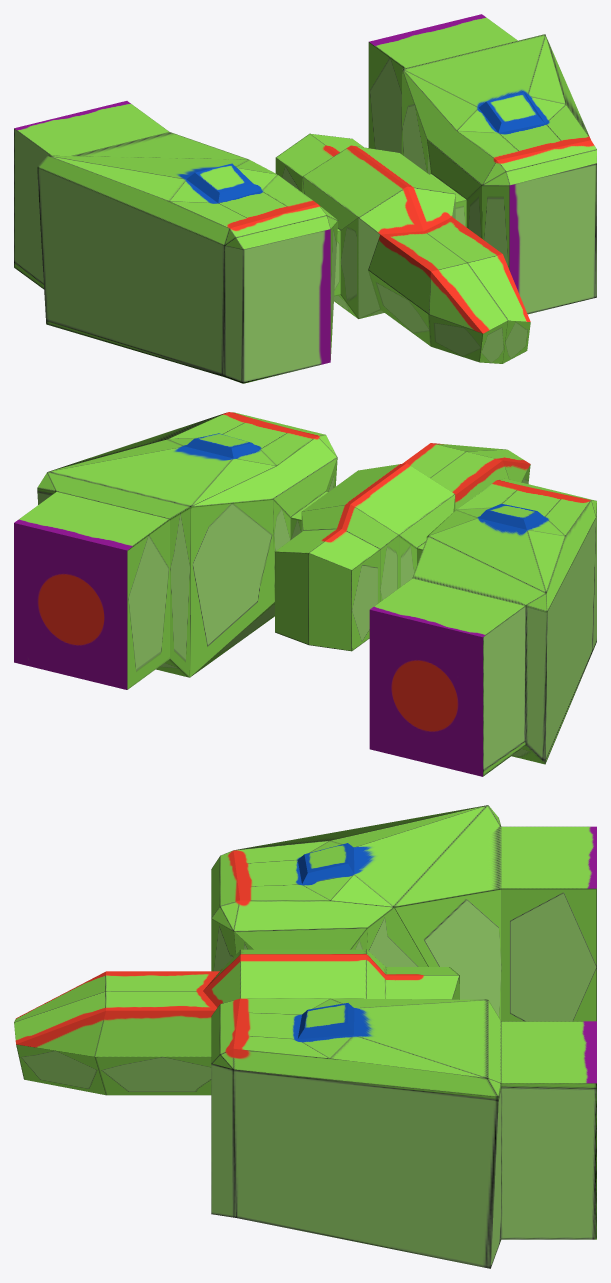
Rendered from enemyModel2_3.fbx.
The picture shows the model from 3 angles, top to bottom: view 1: azimuth 30°, elevation 25°; view 2: azimuth 150°, elevation 25°; view 3: azimuth 270°, elevation 25°; orthographic projection. The views are drawn at different scales.
Visible parts, largest first — view 1: Cube.001; view 2: Cube.001; view 3: Cube.001.
Boxes of the visible parts, box(x1,y1,x2,y2) form: Cube.001: box(14, 14, 596, 383); Cube.001: box(14, 412, 596, 776); Cube.001: box(14, 805, 596, 1268).
Size of the model in its own units: 294 by 97.89 by 259.
Materials: 1 (1 with a texture image).
